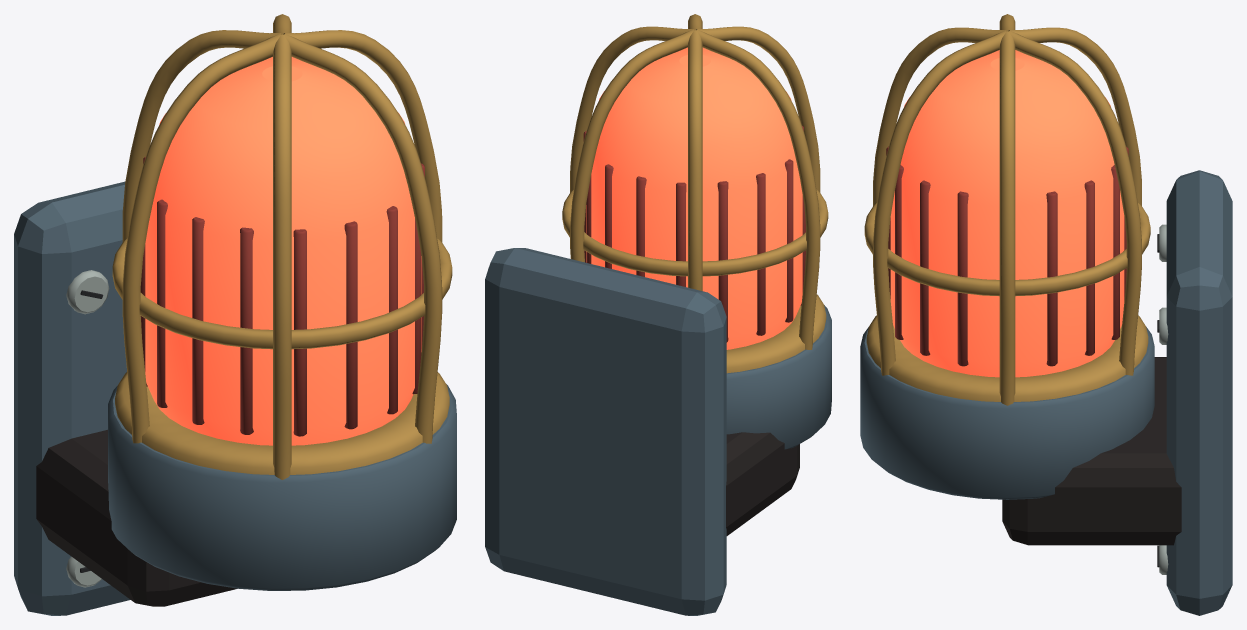
The model's file is EmergencyCageLamp.fbx.
3 renders of one model, left to right at view 1: azimuth 30°, elevation 25°; view 2: azimuth 150°, elevation 25°; view 3: azimuth 270°, elevation 25°, orthographic. The views are drawn at different scales.
Visible parts, largest first — view 1: Ribbed red globe, Heavy socket, Wall mount, Offset foot, Lower clamp, Cage rib.003, Cage rib.005, Cage rib.004, Cage cross band, Cage rib.002, Cage rib, Glass flute.011 (+8 smaller); view 2: Wall mount, Ribbed red globe, Heavy socket, Offset foot, Cage rib.003, Cage cross band, Cage rib.001, Cage rib.002, Cage rib.004, Cage rib, Lower clamp, Glass flute.007 (+5 smaller); view 3: Ribbed red globe, Wall mount, Heavy socket, Offset foot, Lower clamp, Cage rib, Cage rib.005, Cage rib.001, Cage cross band, Cage rib.004, Cage rib.002, Glass flute.001 (+5 smaller).
Boxes of the visible parts, left/top/right/bottom form: Ribbed red globe: left=145, top=57, right=421, bottom=445; Heavy socket: left=108, top=384, right=456, bottom=590; Wall mount: left=14, top=181, right=130, bottom=615; Offset foot: left=36, top=429, right=237, bottom=606; Lower clamp: left=115, top=372, right=449, bottom=474; Cage rib.003: left=122, top=34, right=280, bottom=443; Cage rib.005: left=284, top=34, right=442, bottom=443; Cage rib.004: left=273, top=34, right=291, bottom=479; Cage cross band: left=112, top=238, right=452, bottom=349; Cage rib.002: left=122, top=30, right=281, bottom=241; Cage rib: left=283, top=30, right=442, bottom=242; Glass flute.011: left=293, top=229, right=306, bottom=436; Wall mount: left=485, top=248, right=726, bottom=615; Ribbed red globe: left=586, top=47, right=802, bottom=349; Heavy socket: left=726, top=305, right=831, bottom=449; Offset foot: left=726, top=432, right=799, bottom=535; Cage rib.003: left=696, top=29, right=820, bottom=349; Cage cross band: left=562, top=189, right=828, bottom=276; Cage rib.001: left=570, top=30, right=693, bottom=262; Cage rib.002: left=688, top=30, right=702, bottom=290; Cage rib.004: left=696, top=26, right=820, bottom=192; Cage rib: left=570, top=26, right=694, bottom=192; Lower clamp: left=726, top=294, right=826, bottom=373; Glass flute.007: left=756, top=173, right=765, bottom=335; Ribbed red globe: left=890, top=50, right=1124, bottom=377; Wall mount: left=1166, top=170, right=1232, bottom=615; Heavy socket: left=860, top=327, right=1154, bottom=499; Offset foot: left=1002, top=357, right=1181, bottom=545; Lower clamp: left=866, top=315, right=1148, bottom=401; Cage rib: left=999, top=31, right=1015, bottom=405; Cage rib.005: left=873, top=31, right=1005, bottom=375; Cage rib.001: left=1009, top=31, right=1141, bottom=375; Cage cross band: left=864, top=203, right=1150, bottom=296; Cage rib.004: left=873, top=27, right=1006, bottom=205; Cage rib.002: left=1008, top=27, right=1141, bottom=205; Glass flute.001: left=1046, top=191, right=1057, bottom=366.
Bounding box in the file's own units: 0.1448 × 0.2775 × 0.1745.
